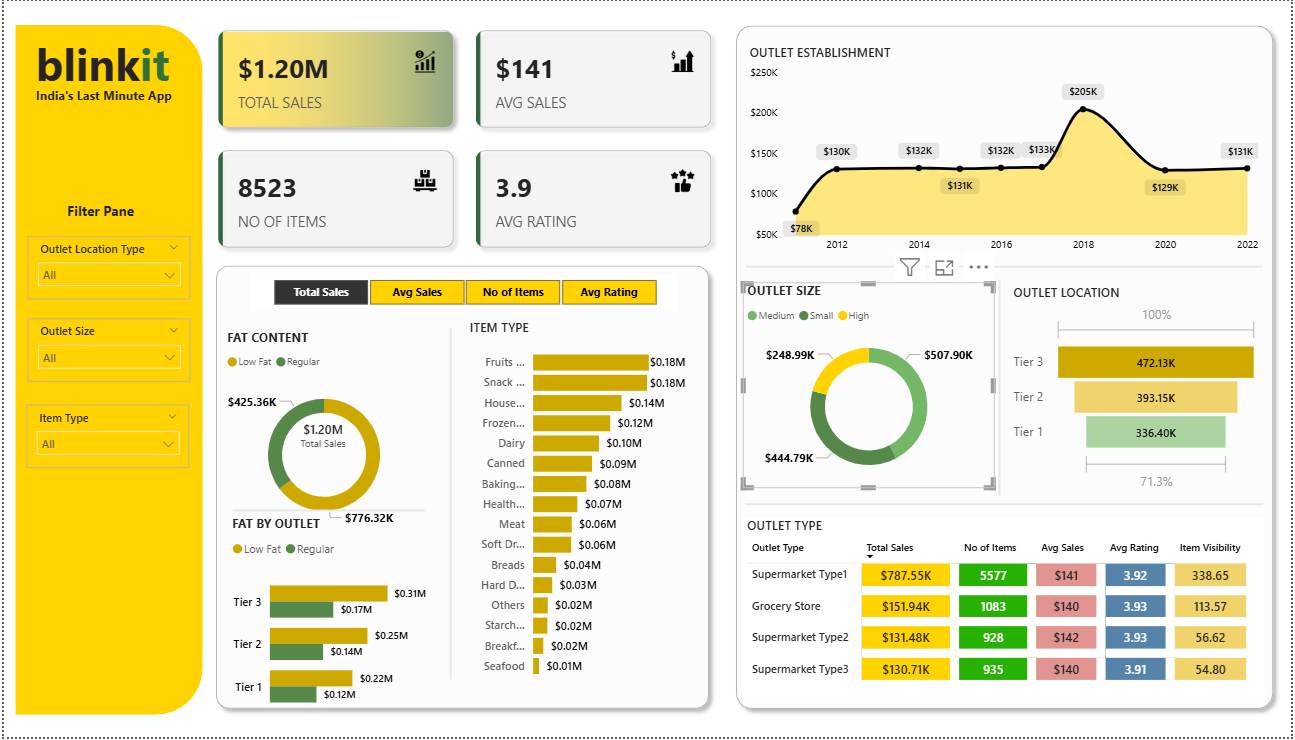

The page's visual inventory and layout, read from the dashboard file:
{"tool":"powerbi","page":{"name":"Page 1","canvas":[1400,800],"ordinal":0},"visuals":[{"type":"shape","box":[12.2,25.8,203.8,750],"z":0},{"type":"textbox","box":[30,30,195.1,108.1],"z":1000},{"type":"textbox","box":[30,88.6,163.6,28.5],"z":2000},{"type":"cardVisual","fields":{"Data":["BlinkIT Grocery Data.Total Sales","BlinkIT Grocery Data.Avg Sales","BlinkIT Grocery Data.No of Items","BlinkIT Grocery Data.Avg Rating"]},"box":[216.1,15,570.3,270.2],"z":3000},{"type":"shape","box":[222.1,279.2,553.8,499.8],"z":4000},{"type":"donutChart","title":"FAT CONTENT","fields":{"Y":["BlinkIT Grocery Data.Total Sales"],"Category":["BlinkIT Grocery Data.Item Fat Content"]},"box":[237.1,355.7,220.6,229.6],"z":5000},{"type":"slicer","fields":{"Values":["Parameter.Parameter"]},"box":[267.2,295.7,465.3,40.5],"z":6000},{"type":"cardVisual","fields":{"Data":["BlinkIT Grocery Data.Total Sales"]},"box":[289.7,424.7,115.6,94.6],"z":7000},{"type":"clusteredBarChart","title":"FAT BY OUTLET","fields":{"Y":["BlinkIT Grocery Data.Total Sales"],"Category":["BlinkIT Grocery Data.Outlet Location Type"],"Series":["BlinkIT Grocery Data.Item Fat Content"]},"box":[243.1,558.3,220.6,229.6],"z":8000},{"type":"shape","box":[249.1,546.3,208.6,15],"z":9000},{"type":"shape","box":[480.3,355.7,12,381.2],"z":10000},{"type":"barChart","title":"ITEM TYPE","fields":{"Y":["BlinkIT Grocery Data.Total Sales"],"Category":["BlinkIT Grocery Data.Item Type"]},"box":[501.3,345.2,244.6,400.7],"z":11000},{"type":"shape","box":[786.5,18,601.8,760.9],"z":12000},{"type":"lineChart","title":"OUTLET ESTABLISHMENT","fields":{"Category":["BlinkIT Grocery Data.Outlet Establishment Year"],"Y":["BlinkIT Grocery Data.Total Sales"]},"box":[806,46,562.8,235.6],"z":13000},{"type":"shape","box":[806,281.7,562.8,15],"z":14000},{"type":"donutChart","title":"OUTLET SIZE","fields":{"Y":["BlinkIT Grocery Data.Total Sales"],"Category":["BlinkIT Grocery Data.Outlet Size"]},"box":[803,305.2,274.7,225.1],"z":15000},{"type":"shape","box":[1076.1,302.5,12,234.1],"z":16000},{"type":"funnel","title":"OUTLET LOCATION","fields":{"Category":["BlinkIT Grocery Data.Outlet Location Type"],"Y":["Sum(BlinkIT Grocery Data.Sales)"]},"box":[1092.6,307.7,276.2,229.6],"z":16001},{"type":"shape","box":[806,539.8,562.8,15],"z":16002},{"type":"pivotTable","title":"OUTLET TYPE","fields":{"Rows":["BlinkIT Grocery Data.Outlet Type"],"Values":["BlinkIT Grocery Data.Total Sales","BlinkIT Grocery Data.No of Items","BlinkIT Grocery Data.Avg Sales","BlinkIT Grocery Data.Avg Rating","Sum(BlinkIT Grocery Data.Item Visibility)"]},"box":[803,560.8,567.3,199.6],"z":16003},{"type":"slicer","title":"OUTLET LOCATION TYPE","fields":{"Values":["BlinkIT Grocery Data.Outlet Location Type"]},"box":[25.5,255.1,177.1,69],"z":16004},{"type":"slicer","title":"OUTLET LOCATION TYPE","fields":{"Values":["BlinkIT Grocery Data.Outlet Size"]},"box":[25.5,345.2,177.1,69],"z":16005},{"type":"slicer","title":"OUTLET LOCATION TYPE","fields":{"Values":["BlinkIT Grocery Data.Item Type"]},"box":[24,438.3,177.1,69],"z":16006},{"type":"textbox","box":[63.9,213.3,100.5,31.3],"z":16007}]}

Visuals, with their boxes in screenshot pixels (x1, y1, x2, y2), scaled from the page's 1400x800 canvas onto the 1295x740 screenshot:
shape: region(11, 24, 200, 718)
textbox: region(28, 28, 208, 128)
textbox: region(28, 82, 179, 108)
cardVisual - BlinkIT Grocery Data.Total Sales x BlinkIT Grocery Data.Avg Sales: region(200, 14, 727, 264)
shape: region(205, 258, 718, 721)
"FAT CONTENT" donutChart: region(219, 329, 423, 541)
slicer - Parameter.Parameter: region(247, 274, 678, 311)
cardVisual - BlinkIT Grocery Data.Total Sales: region(268, 393, 375, 480)
"FAT BY OUTLET" clusteredBarChart: region(225, 516, 429, 729)
shape: region(230, 505, 423, 519)
shape: region(444, 329, 455, 682)
"ITEM TYPE" barChart: region(464, 319, 690, 690)
shape: region(728, 17, 1284, 720)
"OUTLET ESTABLISHMENT" lineChart: region(746, 43, 1266, 260)
shape: region(746, 261, 1266, 274)
"OUTLET SIZE" donutChart: region(743, 282, 997, 491)
shape: region(995, 280, 1006, 496)
"OUTLET LOCATION" funnel: region(1011, 285, 1266, 497)
shape: region(746, 499, 1266, 513)
"OUTLET TYPE" pivotTable: region(743, 519, 1268, 703)
"OUTLET LOCATION TYPE" slicer: region(24, 236, 187, 300)
"OUTLET LOCATION TYPE" slicer: region(24, 319, 187, 383)
"OUTLET LOCATION TYPE" slicer: region(22, 405, 186, 469)
textbox: region(59, 197, 152, 226)
